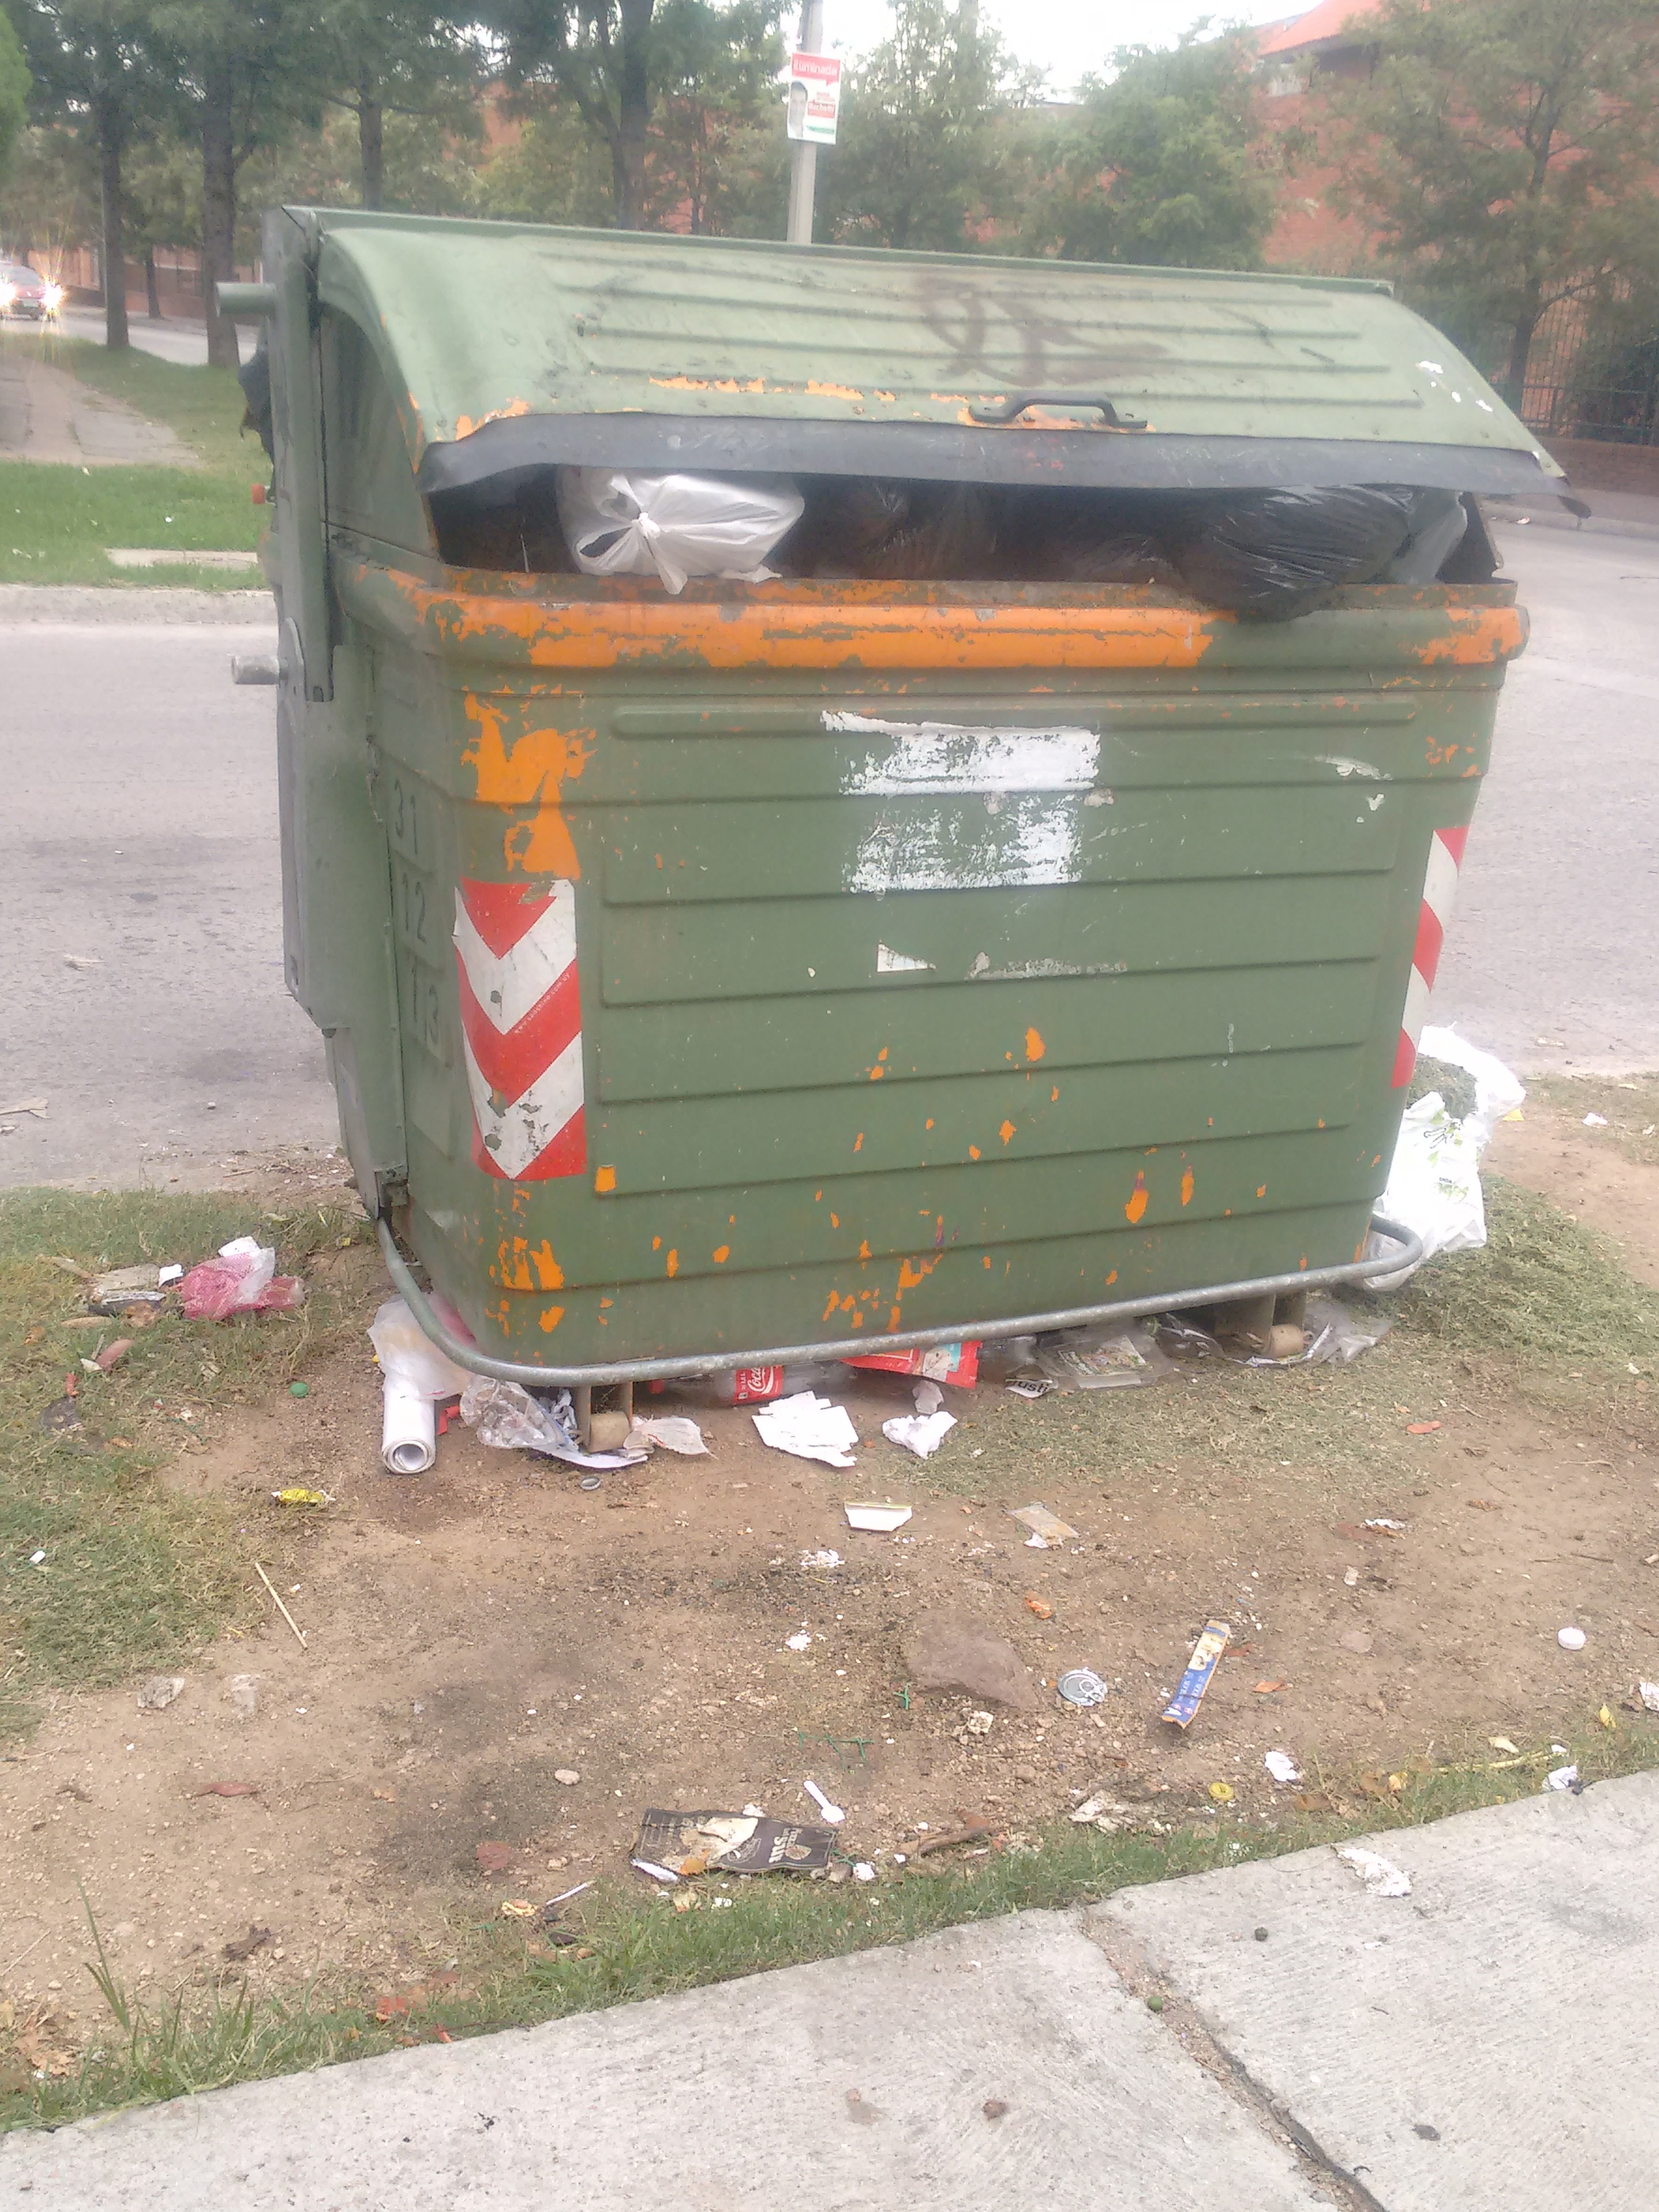container: (213, 183, 1575, 1392)
